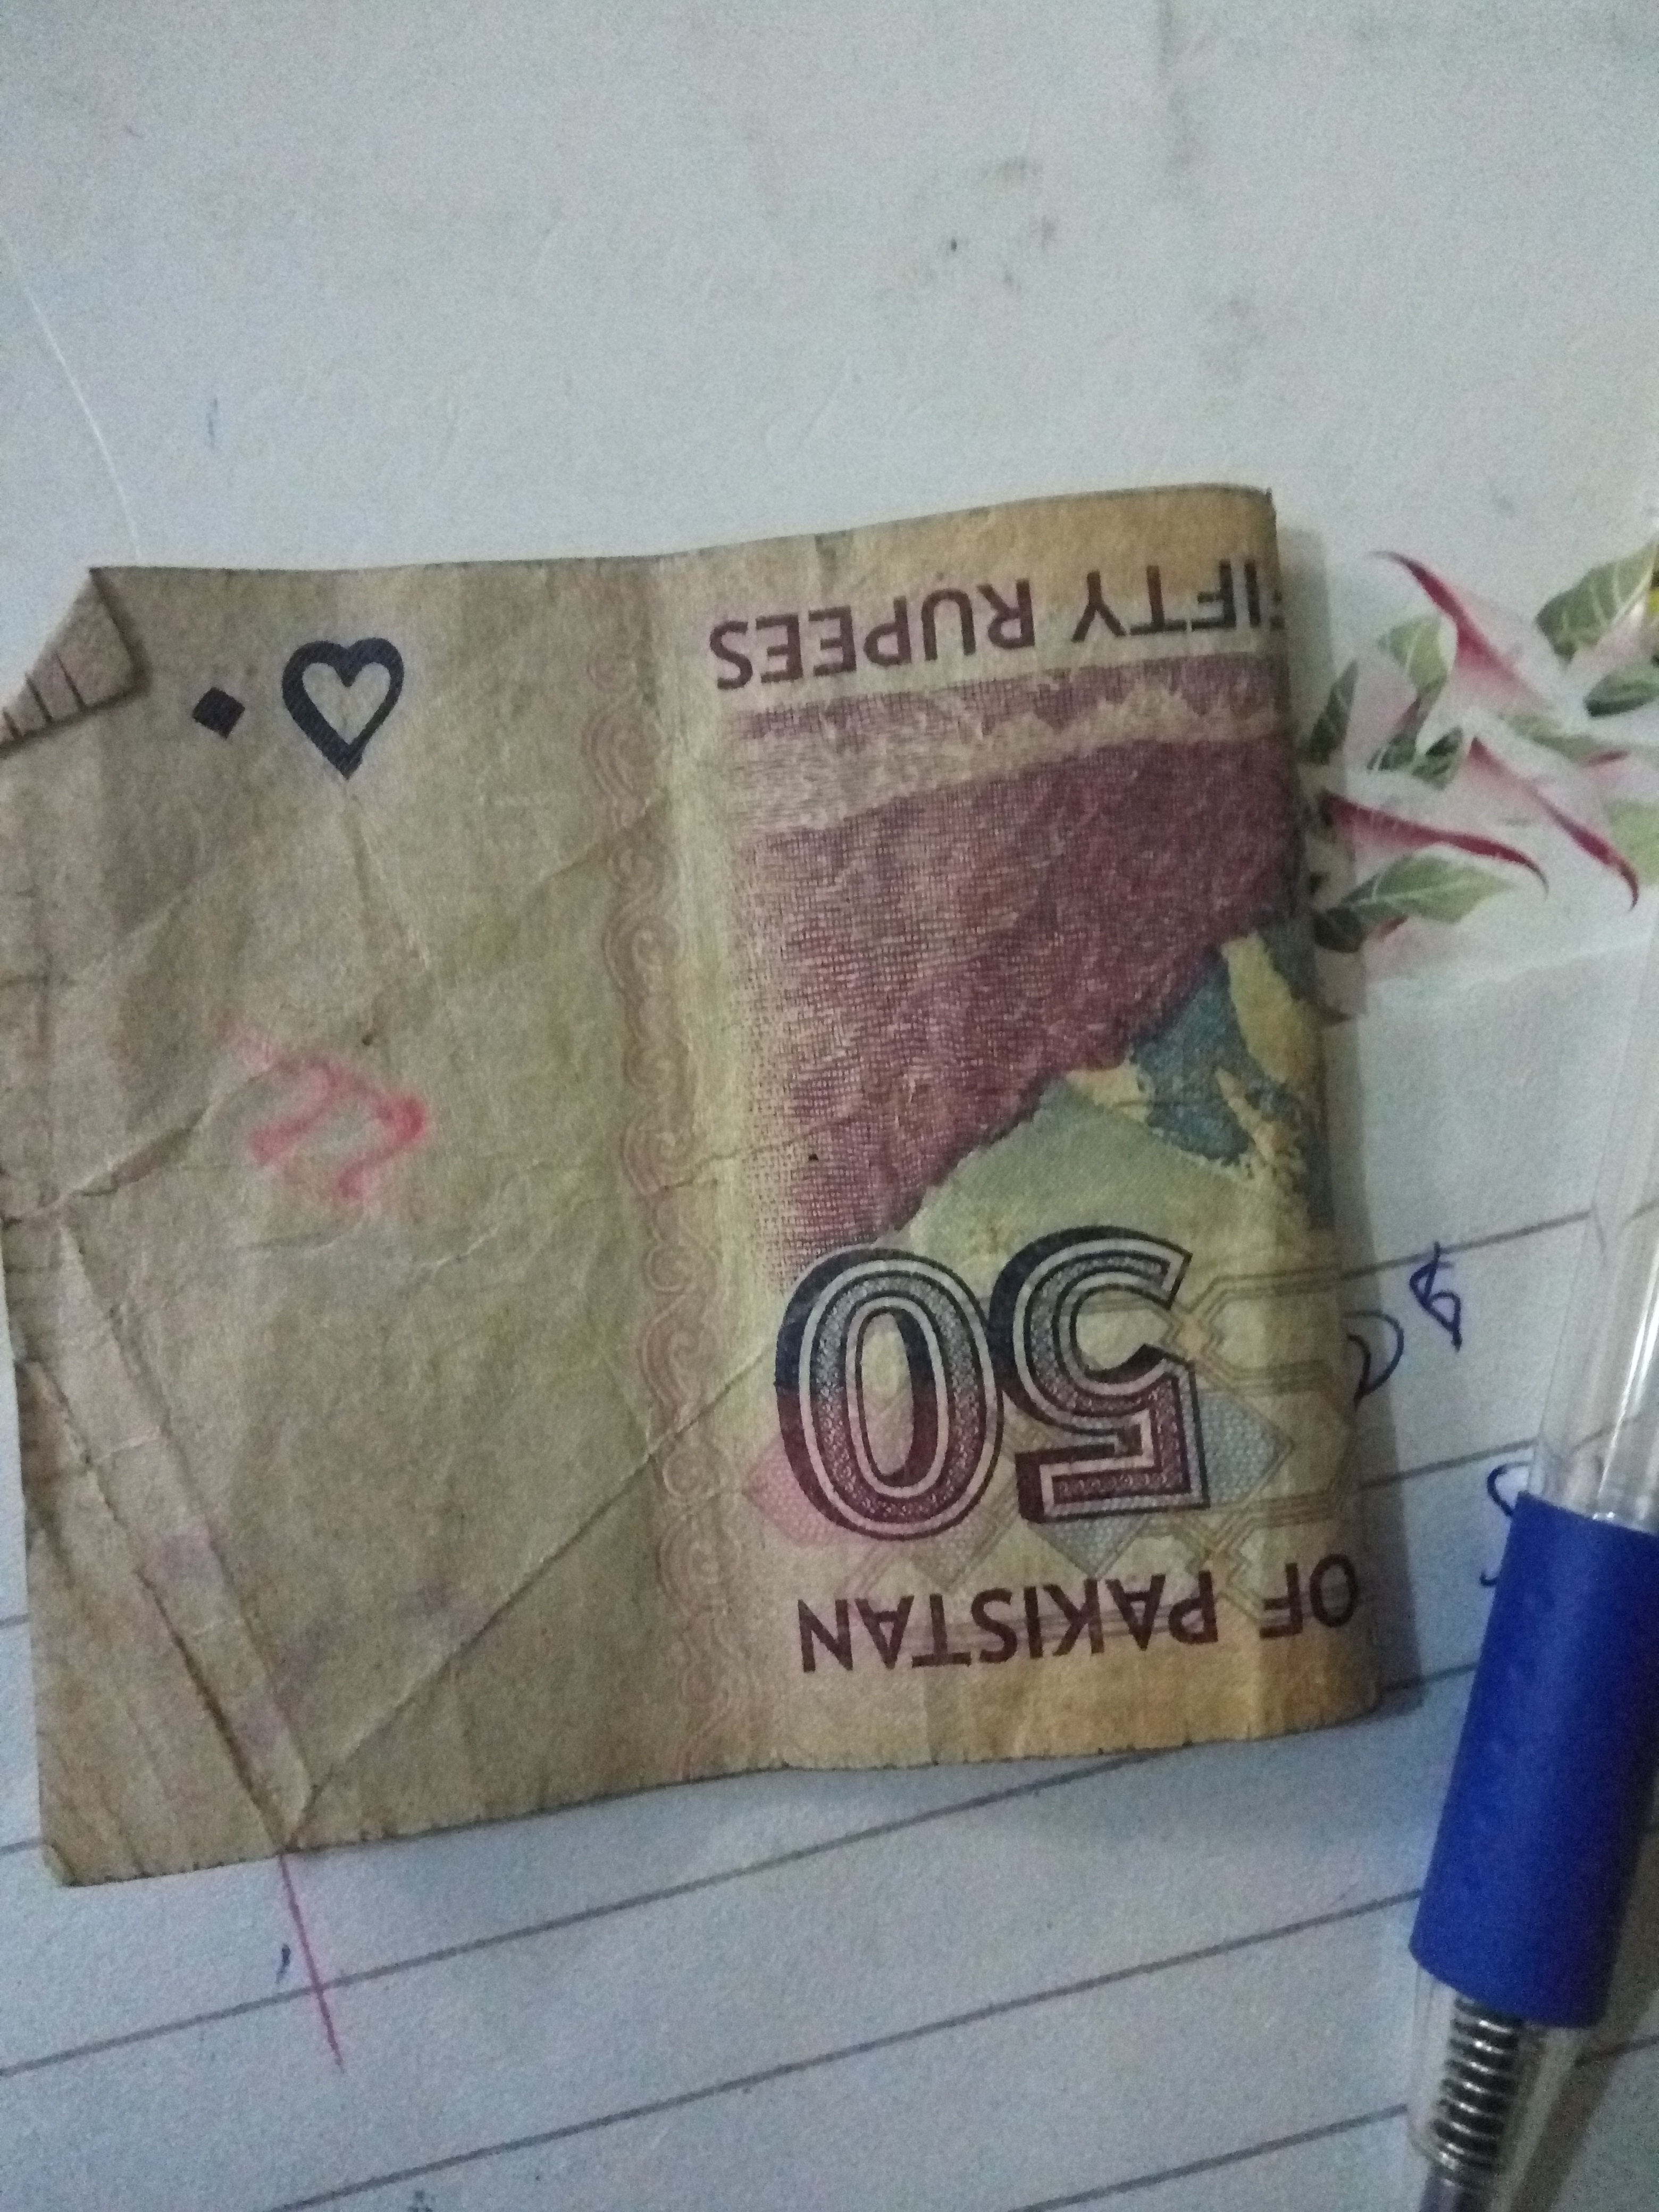50 rupee: (24, 428, 1405, 1982)
